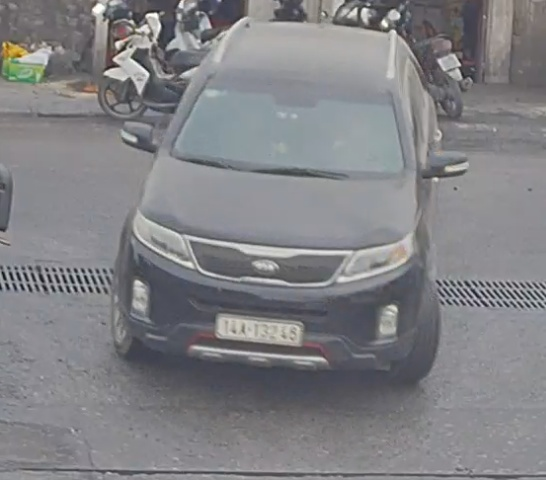vehicle plate: (214, 310, 307, 347)
